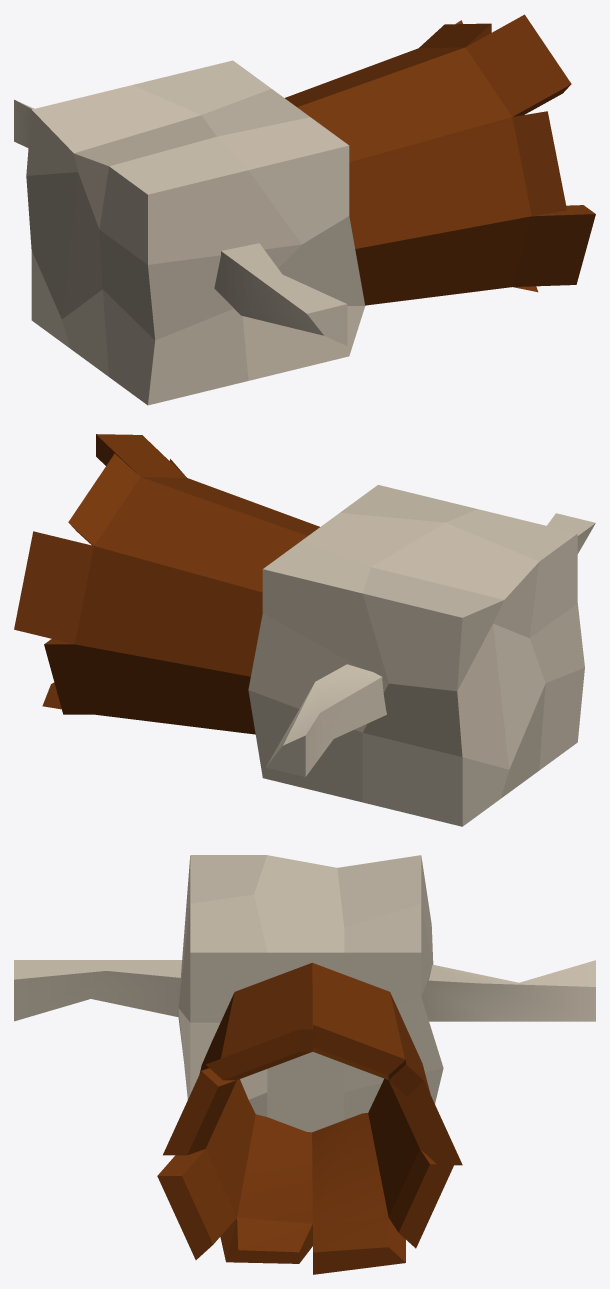
File: Tourelle.FBX
The picture shows the model from 3 angles, top to bottom: view 1: azimuth 30°, elevation 25°; view 2: azimuth 150°, elevation 25°; view 3: azimuth 270°, elevation 25°; orthographic projection.
Visible parts, largest first — view 1: Box687, Cylinder155, Box688, Box689; view 2: Box687, Cylinder155, Box689, Box688; view 3: Cylinder155, Box687, Box689, Box688.
Boxes of the visible parts, x1,y1,x2,y2 form: Box687: (26, 60, 365, 405); Cylinder155: (285, 14, 595, 305); Box688: (214, 243, 347, 345); Box689: (14, 99, 34, 147); Box687: (248, 485, 584, 826); Cylinder155: (14, 434, 319, 734); Box689: (266, 664, 386, 777); Box688: (547, 513, 595, 553); Cylinder155: (157, 962, 462, 1274); Box687: (178, 855, 443, 1132); Box689: (425, 960, 595, 1021); Box688: (14, 960, 181, 1021).
Size of the model in its own units: 215 by 115 by 248.
